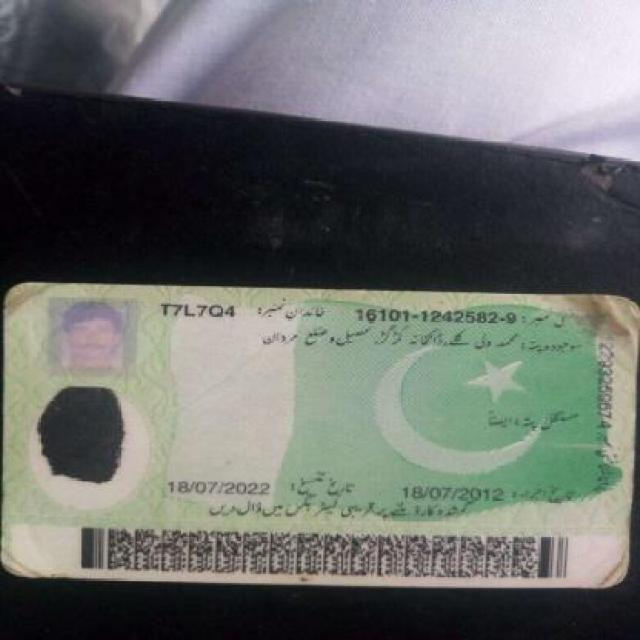Back: (8, 274, 630, 589)
